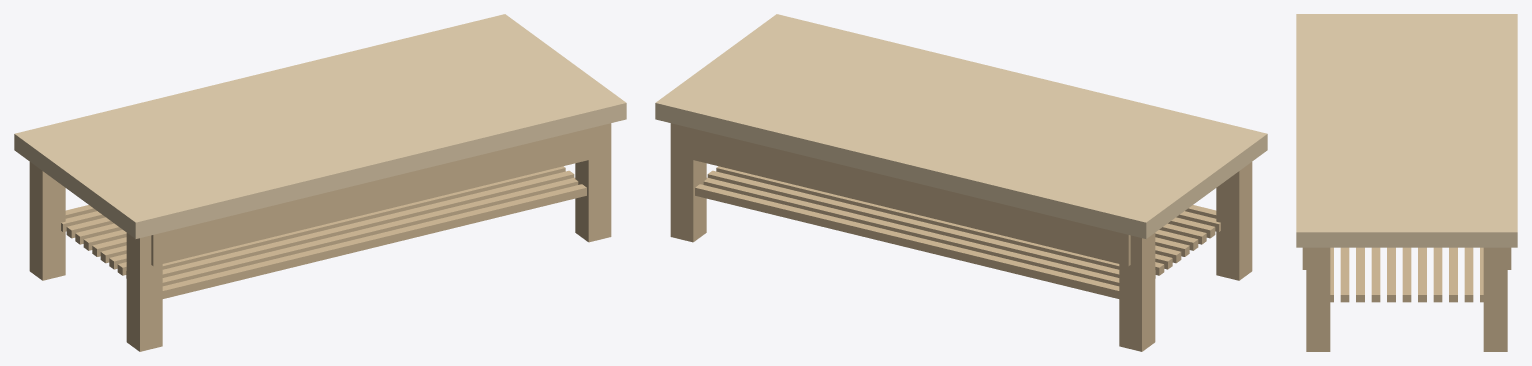
File: ikea-listerby-30513904-g2-coffee-table-proxy.glb
3 renders of one model, left to right at view 1: azimuth 30°, elevation 25°; view 2: azimuth 150°, elevation 25°; view 3: azimuth 270°, elevation 25°, orthographic. The views are drawn at different scales.
Parts seen in each view (by area): view 1: table_top, rear_rail, solid_oak_leg (×3), slatted_shelf_13, slatted_shelf_12, slatted_shelf_11, slatted_shelf_10; view 2: table_top, front_rail, solid_oak_leg (×3), slatted_shelf_1, slatted_shelf_2, slatted_shelf_3, slatted_shelf_4; view 3: table_top, solid_oak_leg (×2), slatted_shelf_3, slatted_shelf_5, slatted_shelf_7, slatted_shelf_9, slatted_shelf_11, slatted_shelf_4, slatted_shelf_6, slatted_shelf_8, slatted_shelf_10, slatted_shelf_2 (+1 smaller).
Boxes of the visible parts, <box> form: table_top: <box>14,14,626,238</box>; rear_rail: <box>151,125,601,266</box>; solid_oak_leg (×3): <box>29,123,611,351</box>; slatted_shelf_13: <box>162,184,586,298</box>; slatted_shelf_12: <box>162,177,578,286</box>; slatted_shelf_11: <box>162,170,574,277</box>; slatted_shelf_10: <box>126,166,565,278</box>; table_top: <box>655,14,1267,238</box>; front_rail: <box>680,125,1130,266</box>; solid_oak_leg (×3): <box>670,123,1252,351</box>; slatted_shelf_1: <box>695,184,1119,298</box>; slatted_shelf_2: <box>703,177,1119,286</box>; slatted_shelf_3: <box>707,170,1119,277</box>; slatted_shelf_4: <box>716,166,1155,278</box>; table_top: <box>1296,14,1517,247</box>; solid_oak_leg (×2): <box>1306,247,1507,351</box>; slatted_shelf_3: <box>1464,247,1473,302</box>; slatted_shelf_5: <box>1433,247,1442,302</box>; slatted_shelf_7: <box>1402,247,1411,302</box>; slatted_shelf_9: <box>1371,247,1380,302</box>; slatted_shelf_11: <box>1340,247,1349,302</box>; slatted_shelf_4: <box>1449,247,1457,302</box>; slatted_shelf_6: <box>1418,247,1426,302</box>; slatted_shelf_8: <box>1387,247,1395,302</box>; slatted_shelf_10: <box>1356,247,1364,302</box>; slatted_shelf_2: <box>1480,247,1483,302</box>.
Size of the model in its own units: 1.4 by 0.37 by 0.6.
